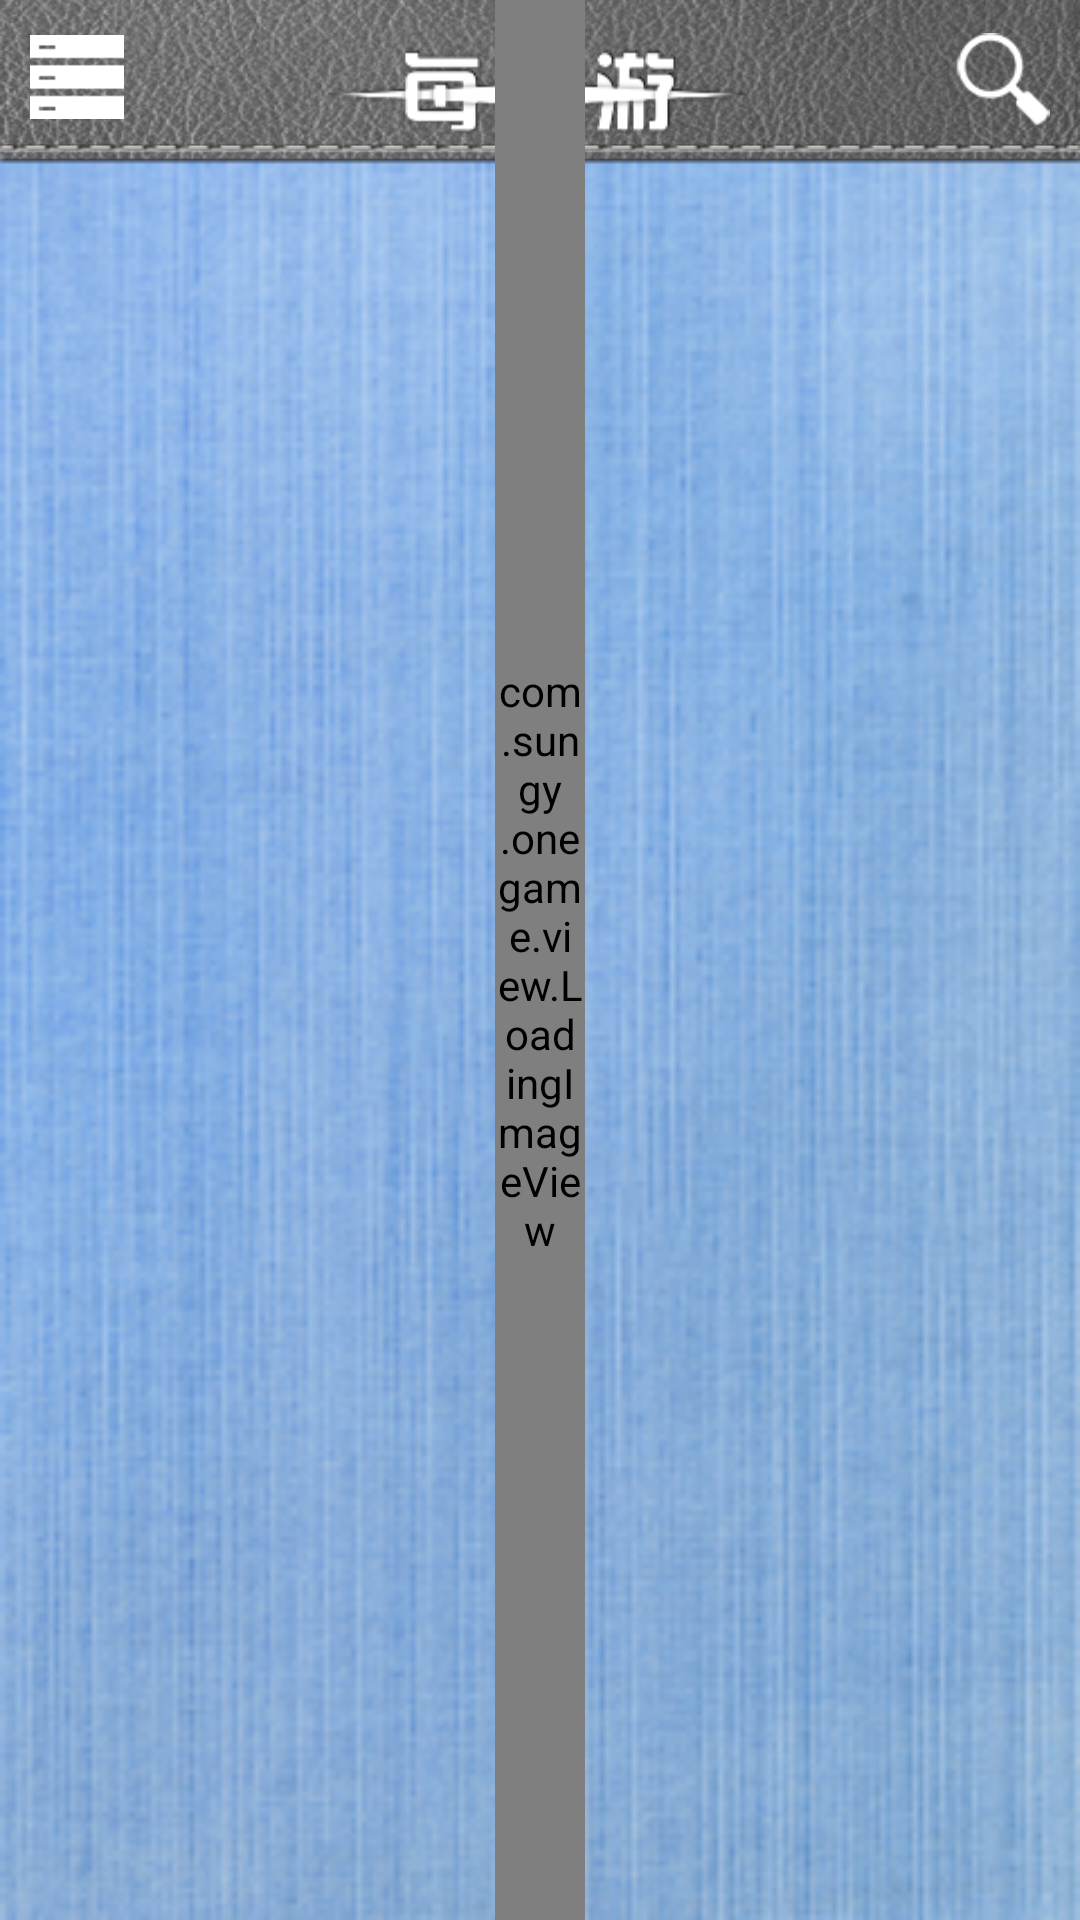

Named icons in this screenshot (1080×1920) and their centers, (x,y):
menu: (77,77)
search: (1002,80)
